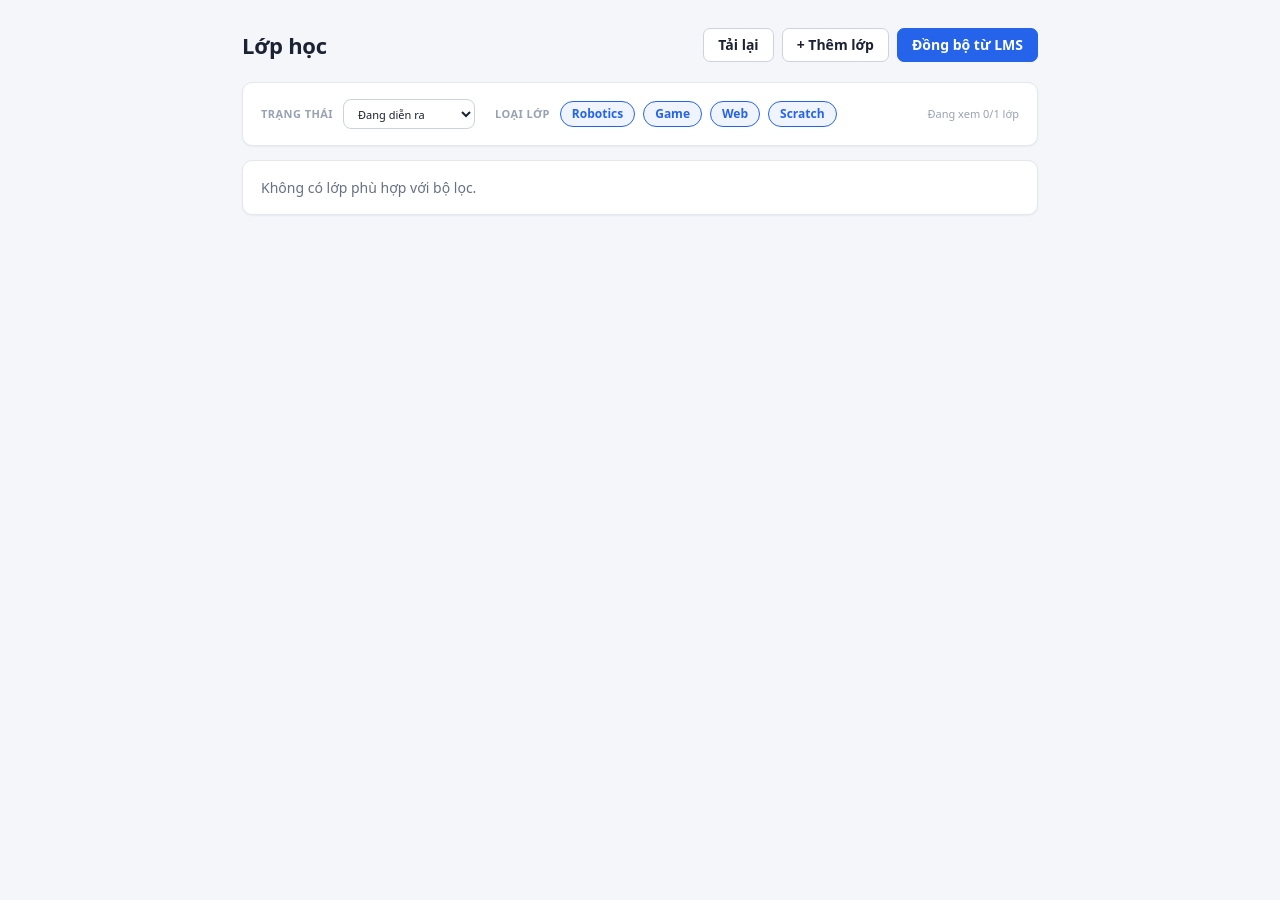
Test: ClassesPage › bấm "Xóa" rồi "Hủy" không gọi deleteClass
Select "Tất cả" in the dropdown named "Lọc theo trạng thái": (409, 114) [343,99,475,129]
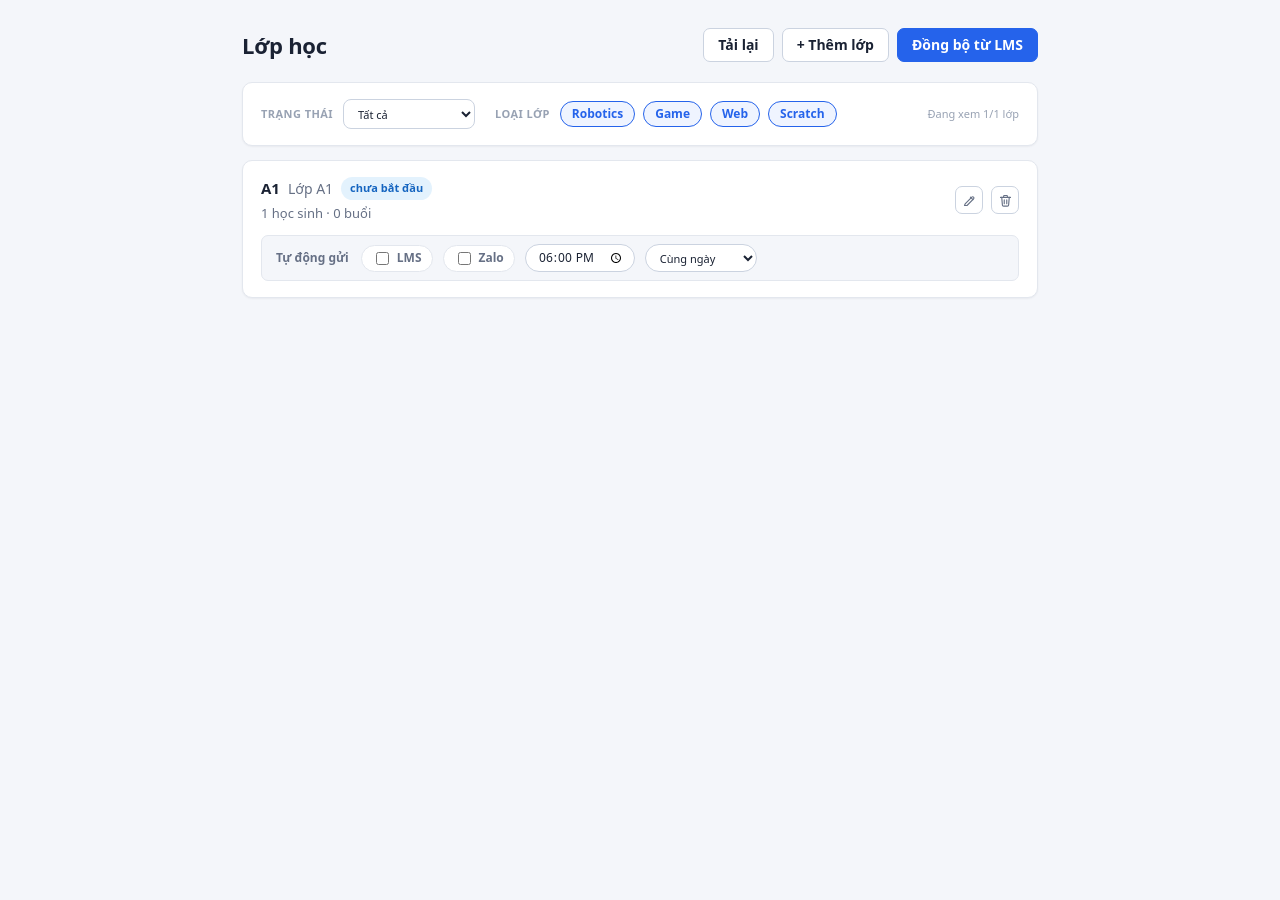
Expected: the text "A1" is shown, [261,177,280,200]
Click the button named "xóa lớp A1": (1005, 200) [991,186,1019,214]
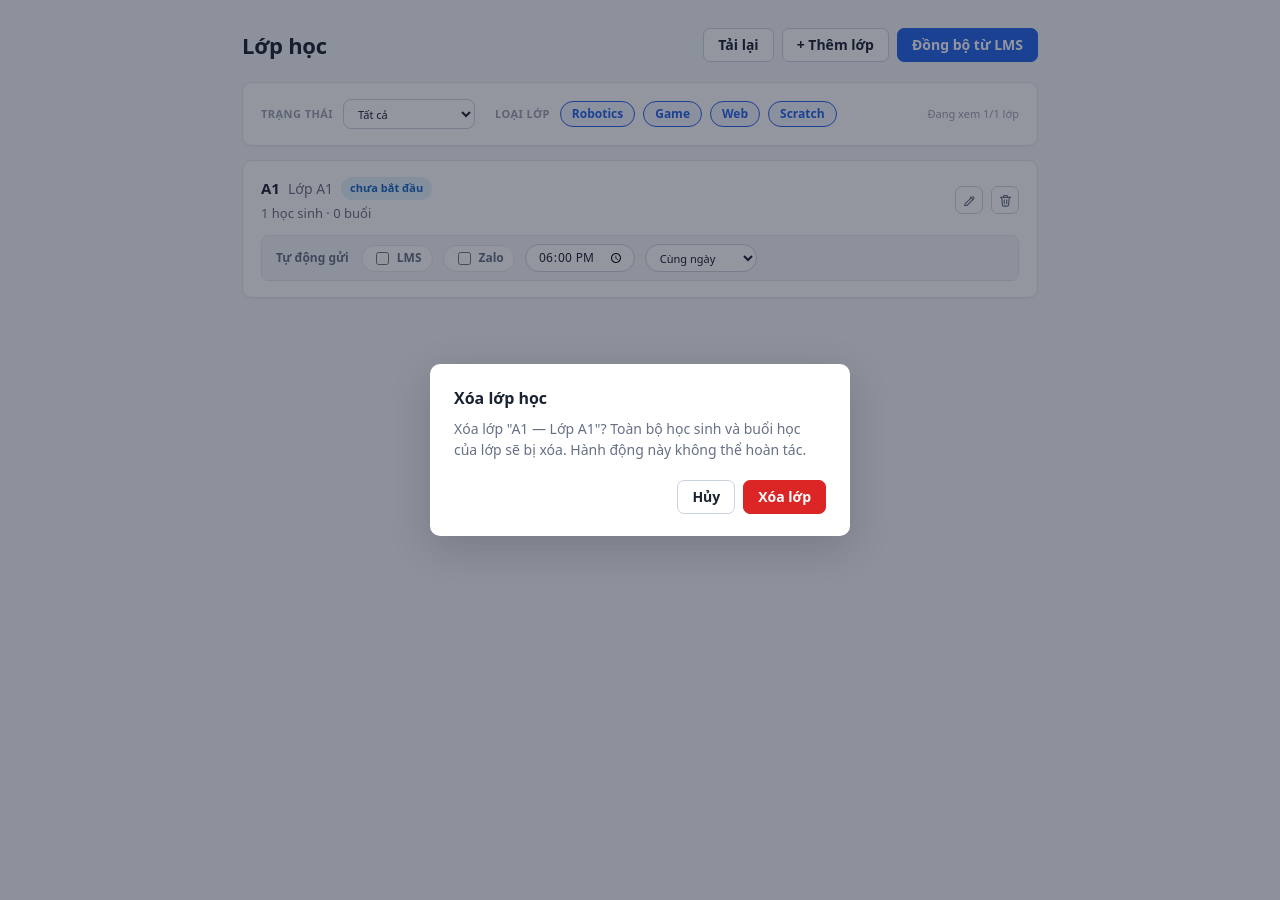
Click the button "Hủy": (706, 497) [677,480,735,514]
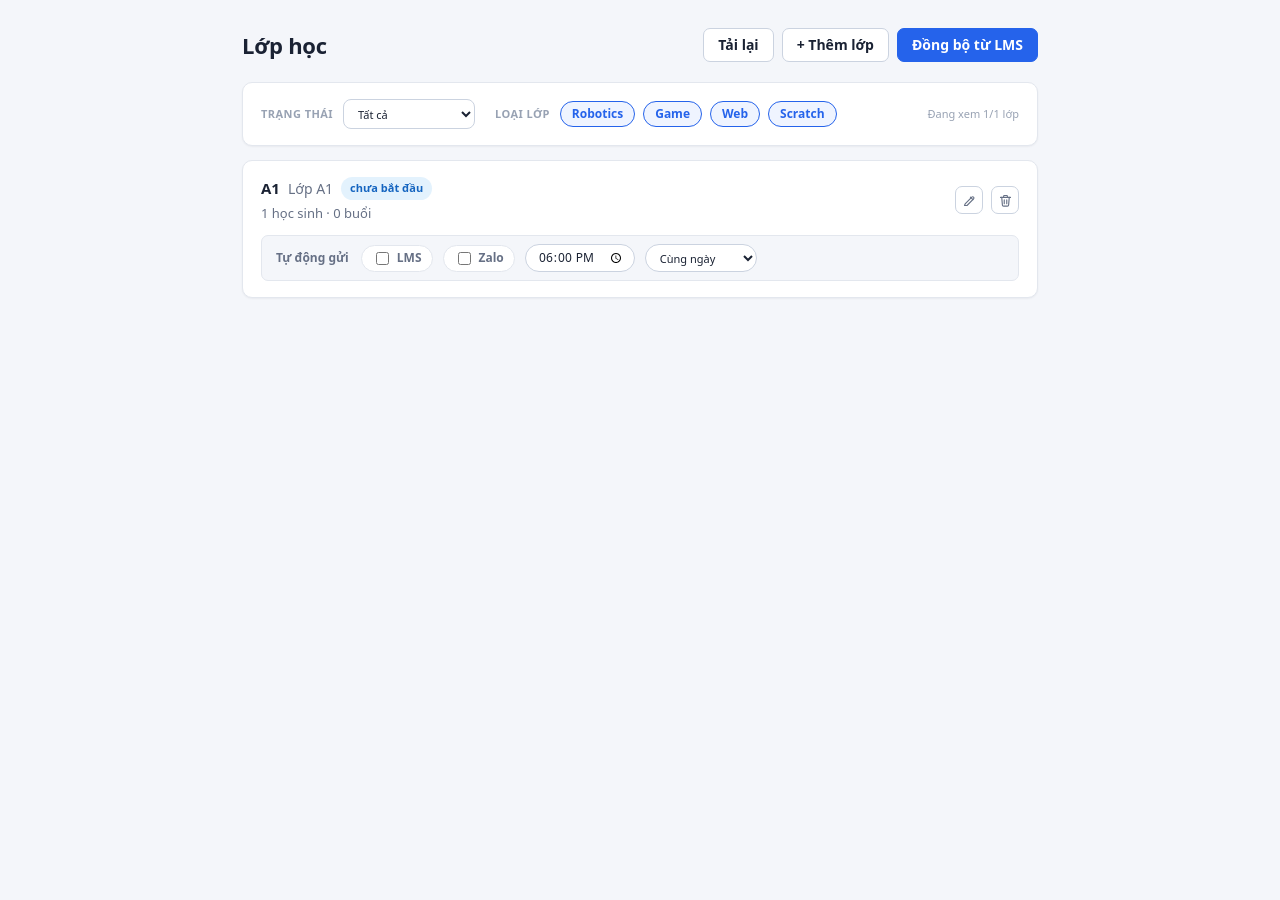
Expected: the dialog is gone
